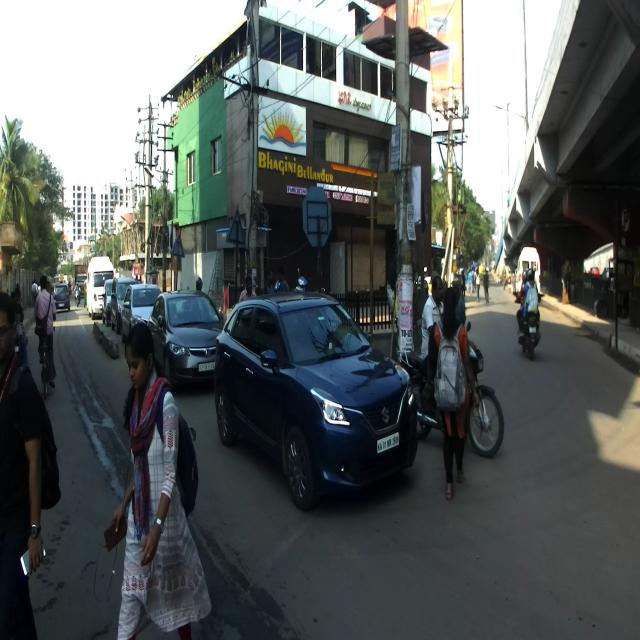Car_Honda: (145, 290, 225, 396)
Car_Maruti-Suzuki: (214, 291, 418, 510)
motorcycle_Hero: (396, 318, 504, 458)
motorcycle_TVS: (514, 292, 543, 360)
